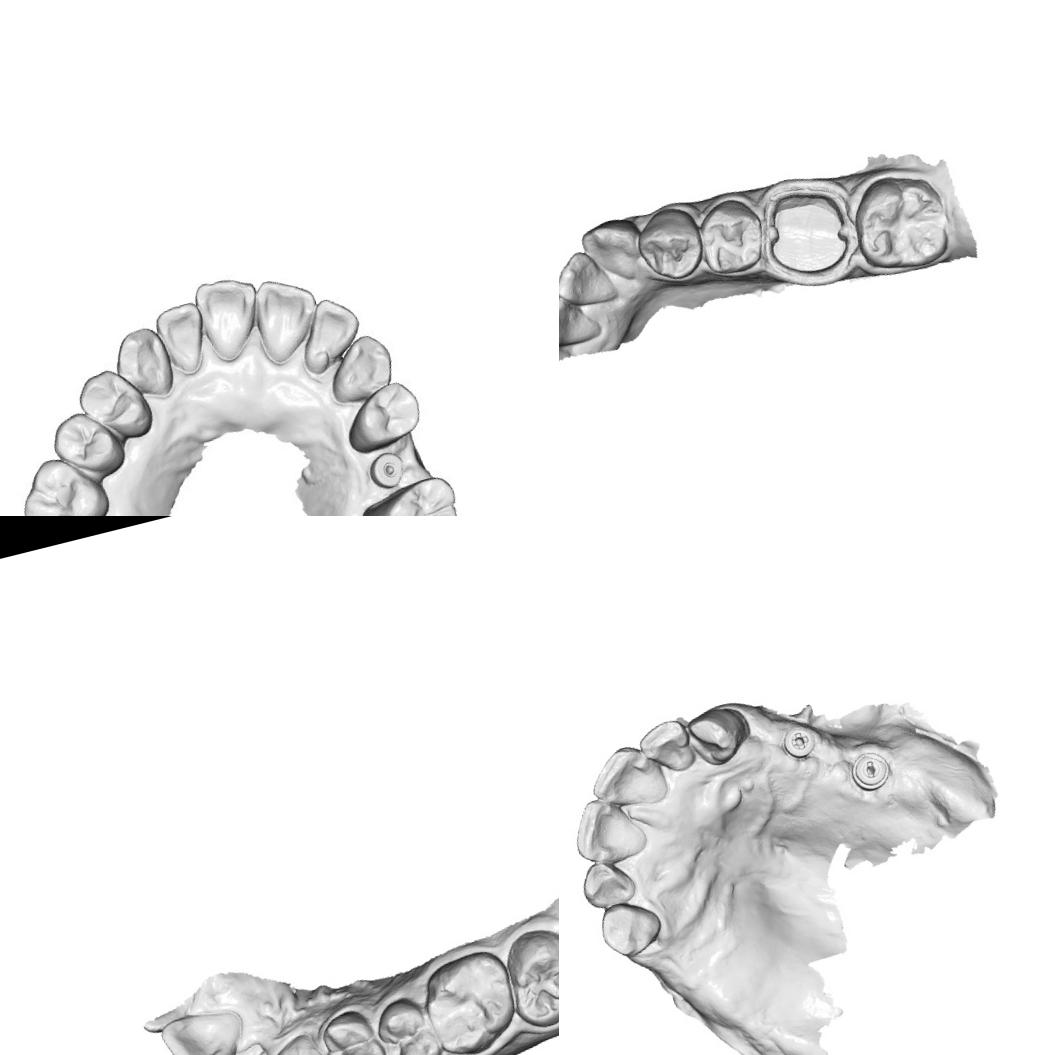canine: (575, 211, 651, 293), (108, 318, 180, 404), (322, 328, 399, 407), (681, 698, 758, 772), (593, 892, 670, 962), (256, 1026, 340, 1055)
crown: (756, 178, 858, 284)
implant: (362, 444, 412, 492)
implant_minus: (845, 746, 894, 796)
implant_plus: (776, 720, 820, 764)
incisor: (242, 272, 327, 368), (189, 270, 267, 368), (582, 736, 672, 818), (564, 788, 650, 870), (290, 291, 370, 376), (156, 1000, 253, 1055), (150, 300, 212, 382), (632, 714, 698, 782), (559, 242, 619, 314), (576, 854, 640, 914), (559, 285, 606, 354)
molar: (842, 164, 958, 280), (412, 943, 524, 1055), (493, 916, 559, 1034), (6, 447, 115, 516), (358, 469, 475, 516)
premolar: (43, 401, 131, 490), (69, 360, 155, 450), (336, 376, 429, 456), (690, 192, 771, 282), (630, 200, 710, 288), (370, 990, 445, 1055), (314, 1004, 391, 1055)
